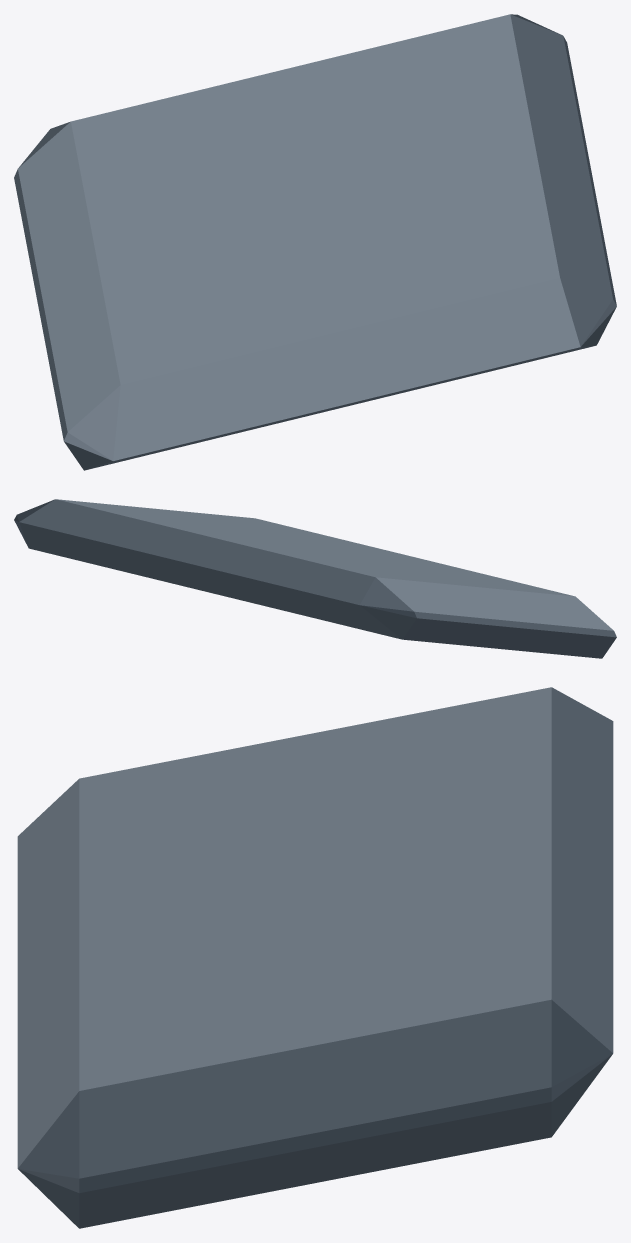
The model's file is Plate_Base.gltf.
3 renders of one model, top to bottom at view 1: azimuth 30°, elevation 25°; view 2: azimuth 150°, elevation 25°; view 3: azimuth 270°, elevation 25°, orthographic. The views are drawn at different scales.
Visible parts, largest first — view 1: Plate_Base_baked; view 2: Plate_Base_baked; view 3: Plate_Base_baked.
Part boxes in pixels (x1,y1,x2,y2): Plate_Base_baked: (14, 14, 616, 470); Plate_Base_baked: (14, 499, 616, 658); Plate_Base_baked: (17, 687, 613, 1228).
Bounding box in the file's own units: 1.09 × 0.304 × 0.58.
